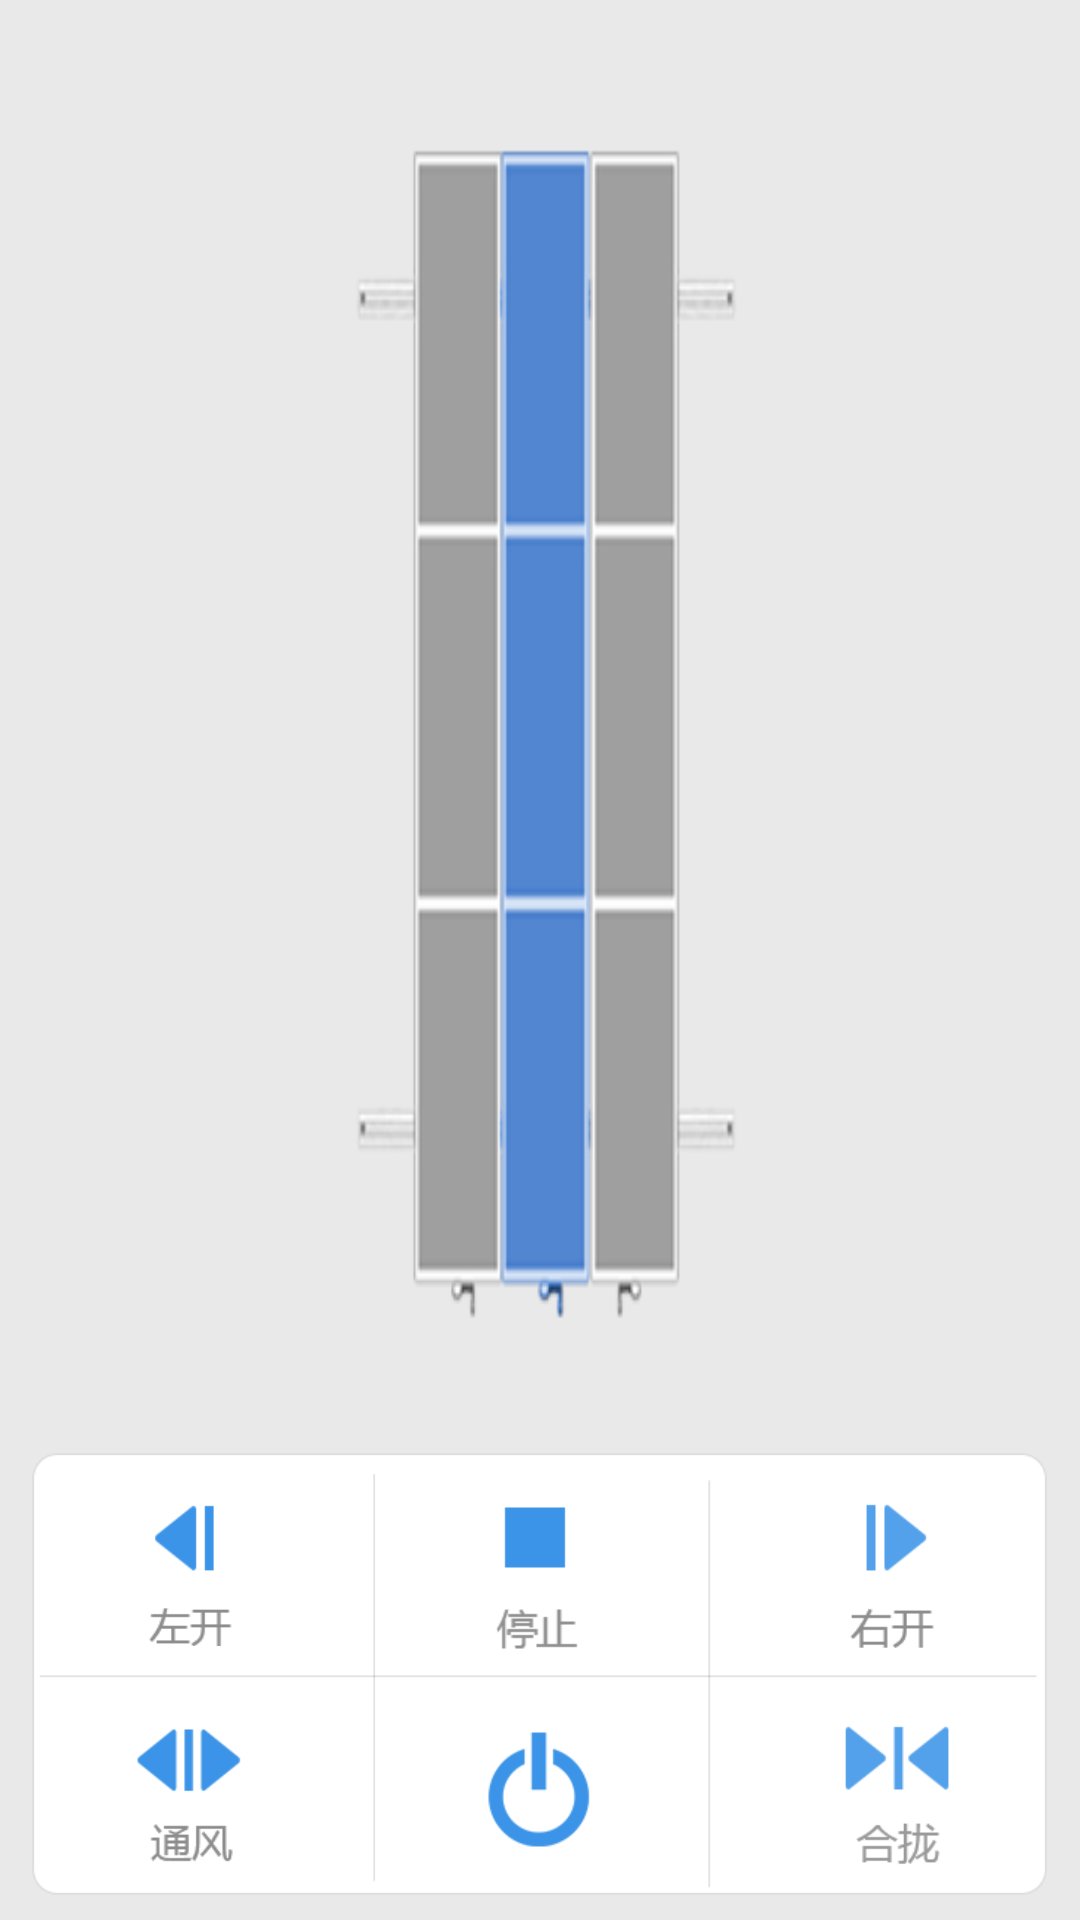

Icons on this 1080px x 1920px Android screen, each with its box as Rect(x1, y1, x2, y2):
ims dy: Rect(488, 1732, 590, 1847)
